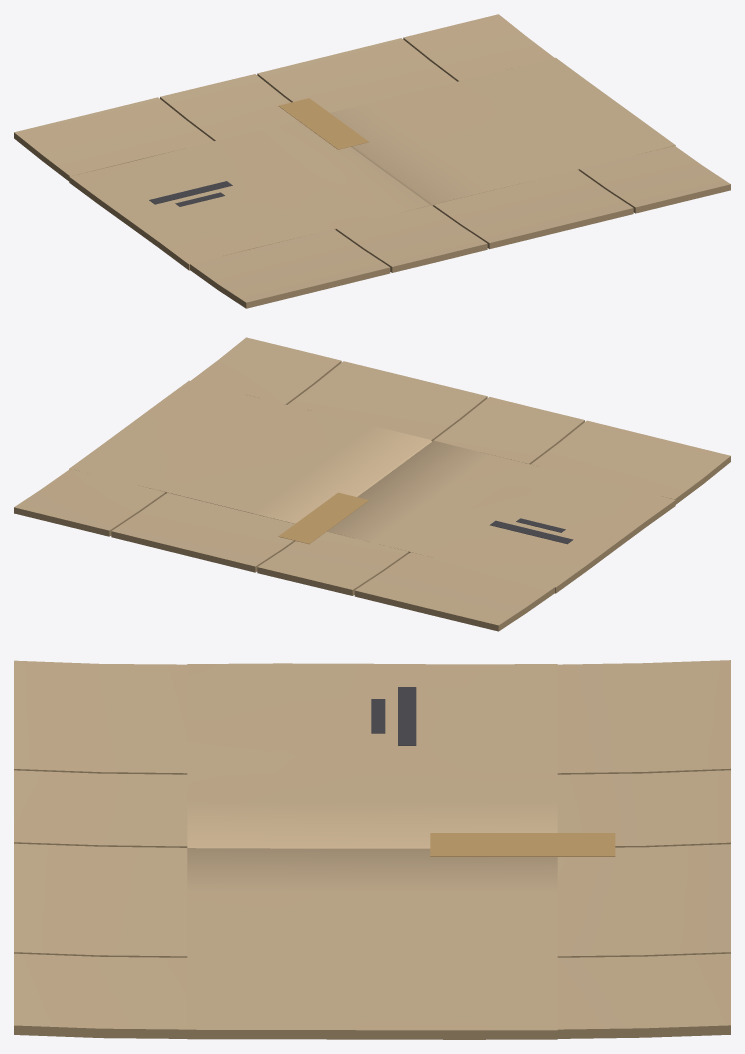
Rendered from paper_cardboard_box_flat.fbx.
3 views of the same model, one above another, from view 1: azimuth 30°, elevation 25°; view 2: azimuth 150°, elevation 25°; view 3: azimuth 270°, elevation 25° (orthographic). The views are drawn at different scales.
Visible parts, largest first — view 1: paper_cardboard_box_flat; view 2: paper_cardboard_box_flat; view 3: paper_cardboard_box_flat.
Part boxes in pixels (<box>): paper_cardboard_box_flat: <box>14,14,730,308</box>; paper_cardboard_box_flat: <box>14,337,730,631</box>; paper_cardboard_box_flat: <box>14,660,730,1039</box>.
Size of the model in its own units: 0.75 by 0.0157 by 0.62.
